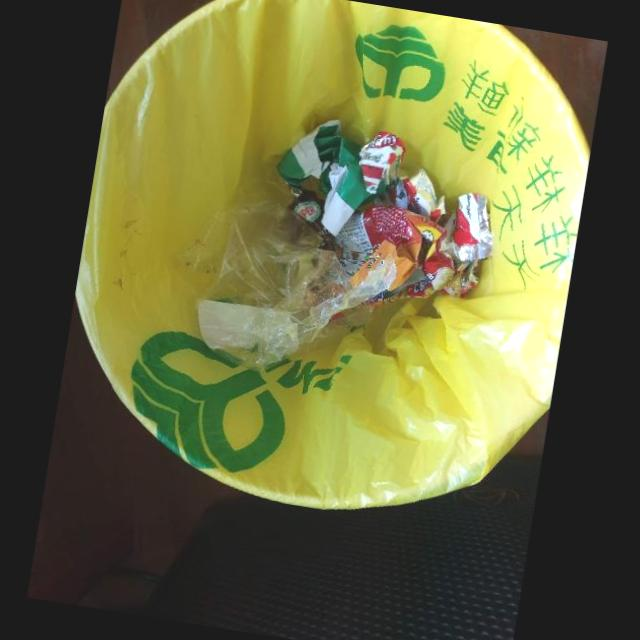bao_bi_thuc_pham: (334, 205, 458, 308), (447, 192, 493, 263), (388, 167, 447, 222), (359, 131, 407, 194), (439, 260, 480, 298)
giay: (277, 119, 372, 236)
tui_ni_long: (198, 203, 398, 370)
